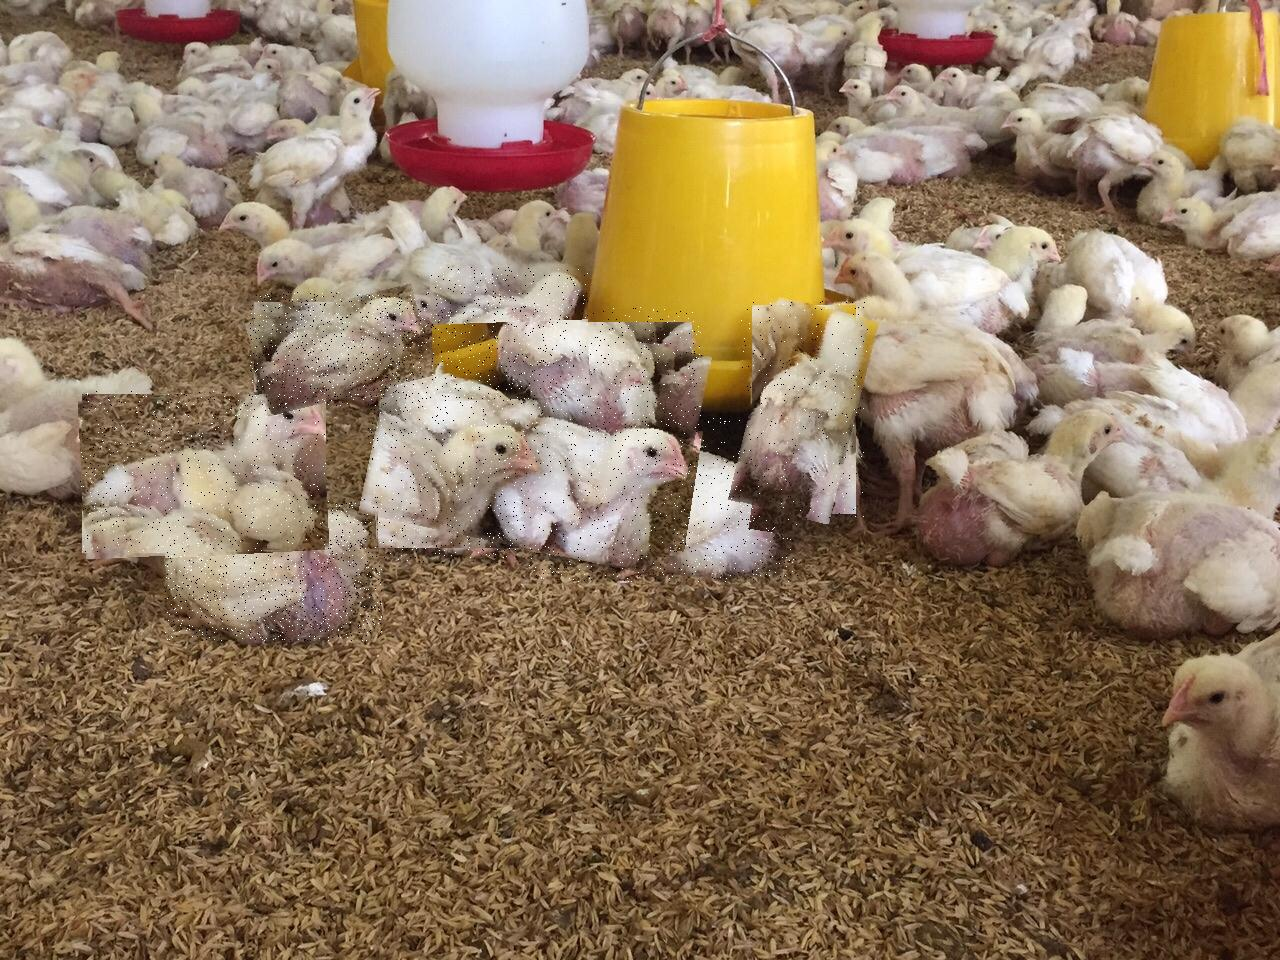chicken: (368, 307, 702, 563), (523, 416, 798, 582), (80, 391, 328, 556), (164, 499, 382, 641), (740, 302, 868, 519), (431, 267, 589, 400), (250, 292, 429, 406)
